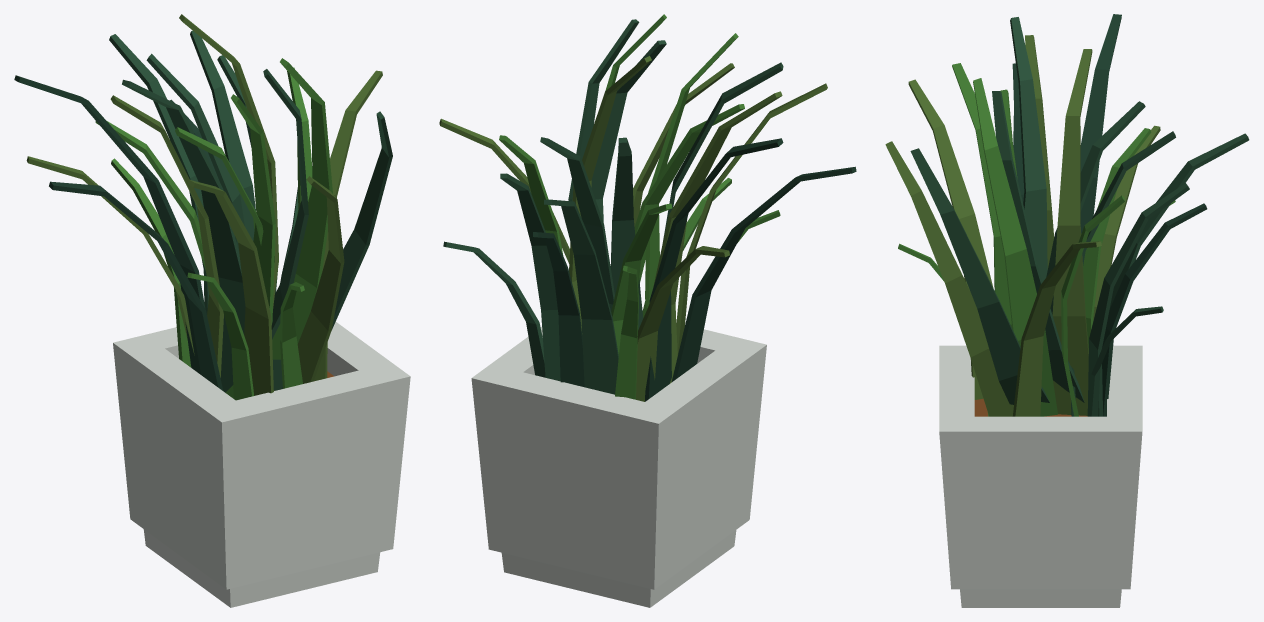
Rendered from Puzzle03_Plant1.glb.
3 renders of one model, left to right at view 1: azimuth 30°, elevation 25°; view 2: azimuth 150°, elevation 25°; view 3: azimuth 270°, elevation 25°, orthographic. The views are drawn at different scales.
Parts seen in each view (by area): view 1: Puzzle03_Plant1; view 2: Puzzle03_Plant1; view 3: Puzzle03_Plant1.
Part boxes in pixels (x1,y1,x2,y2): Puzzle03_Plant1: (14,14,410,607); Puzzle03_Plant1: (439,14,856,607); Puzzle03_Plant1: (885,14,1249,607).
Bounding box in the file's own units: 1.45 × 1.98 × 1.3.
Materials: 1 (1 with a texture image).
